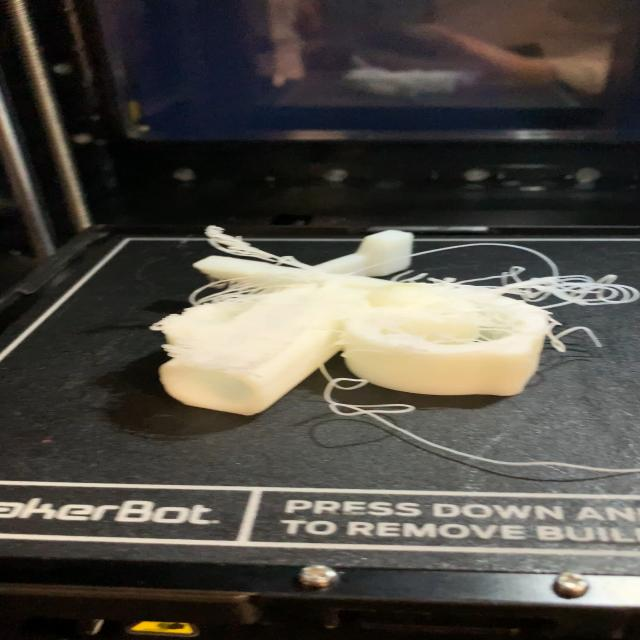spaghetti: (150, 224, 636, 416)
